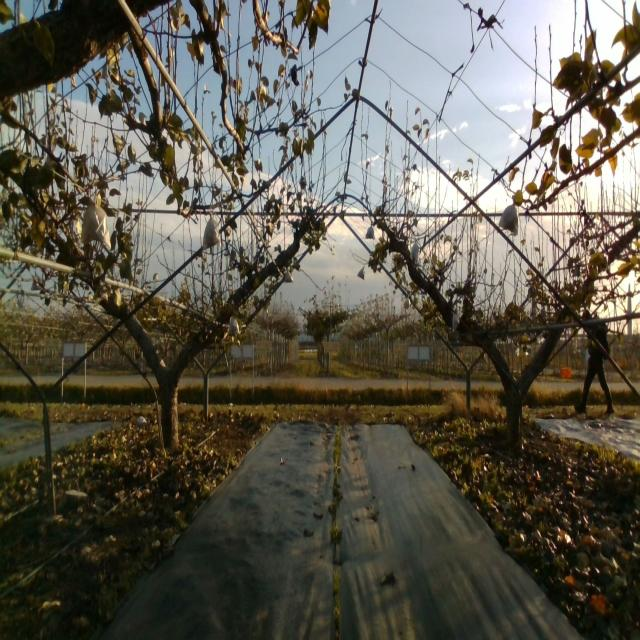pearbags: (82, 187, 111, 248), (498, 194, 518, 237), (202, 212, 221, 253), (411, 240, 422, 261), (229, 317, 240, 337), (364, 221, 376, 239)
